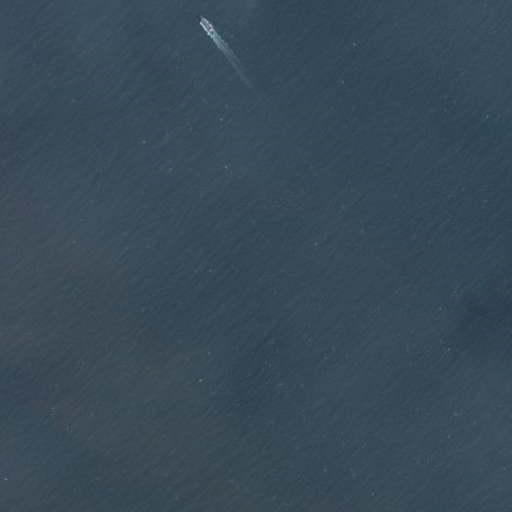ship: (194, 9, 214, 34)
